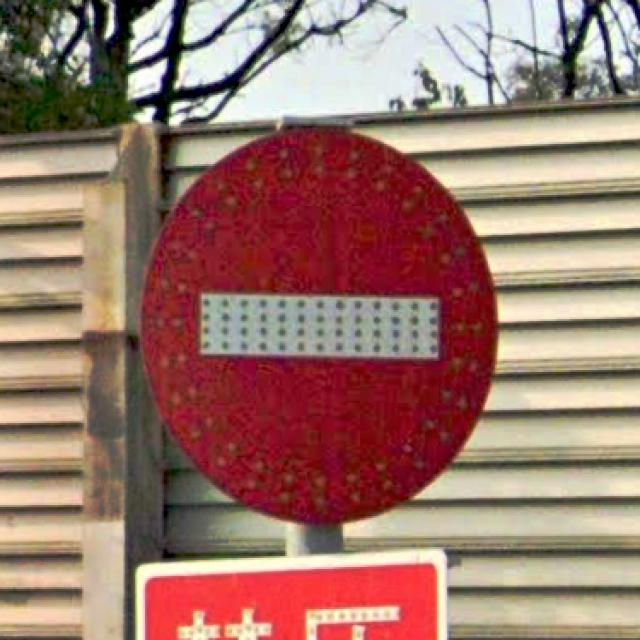noentry: (135, 123, 502, 530)
